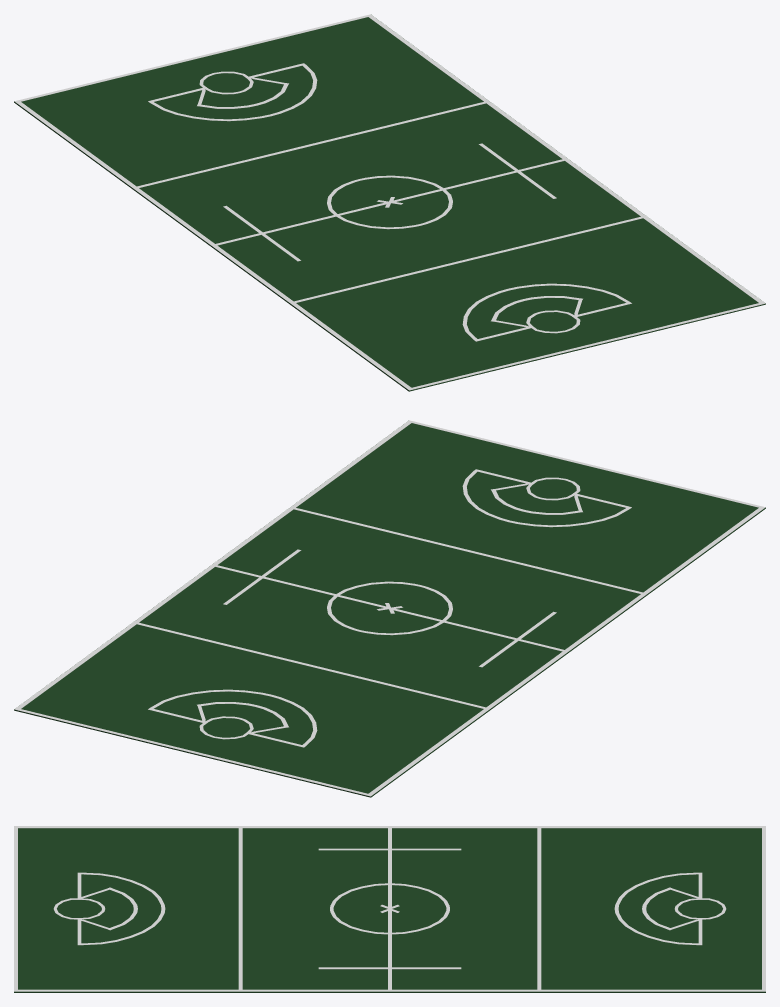
Rendered from Lacrosse Field.fbx.
3 views of the same model, one above another, from view 1: azimuth 30°, elevation 25°; view 2: azimuth 150°, elevation 25°; view 3: azimuth 270°, elevation 25° (orthographic). The views are drawn at different scales.
Parts seen in each view (by area): view 1: Lacrosse Field; view 2: Lacrosse Field; view 3: Lacrosse Field.
Boxes of the visible parts, bbox=[...] form: Lacrosse Field: bbox=[14, 14, 765, 391]; Lacrosse Field: bbox=[14, 420, 765, 797]; Lacrosse Field: bbox=[14, 826, 765, 992].
Size of the model in its own units: 13800 by 44.73 by 26448.
